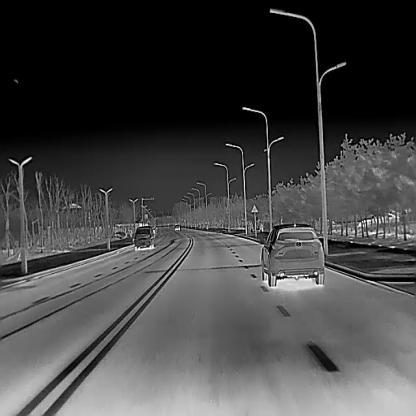car: (260, 221, 324, 285), (133, 225, 154, 250), (174, 225, 180, 230)
